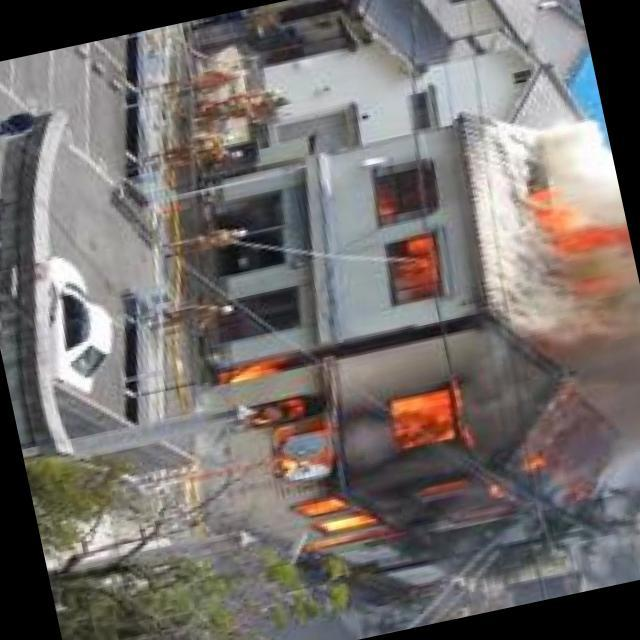Fire: (220, 306, 560, 579), (523, 167, 638, 297), (370, 190, 446, 309)
